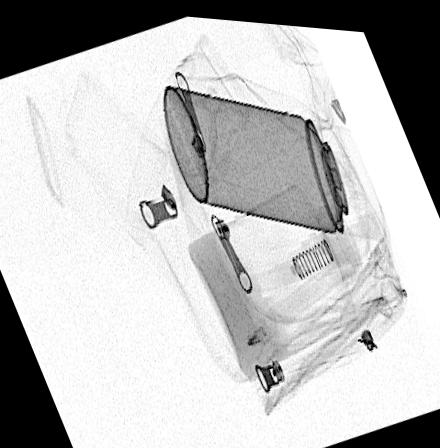Sprayer: (161, 82, 389, 237)
